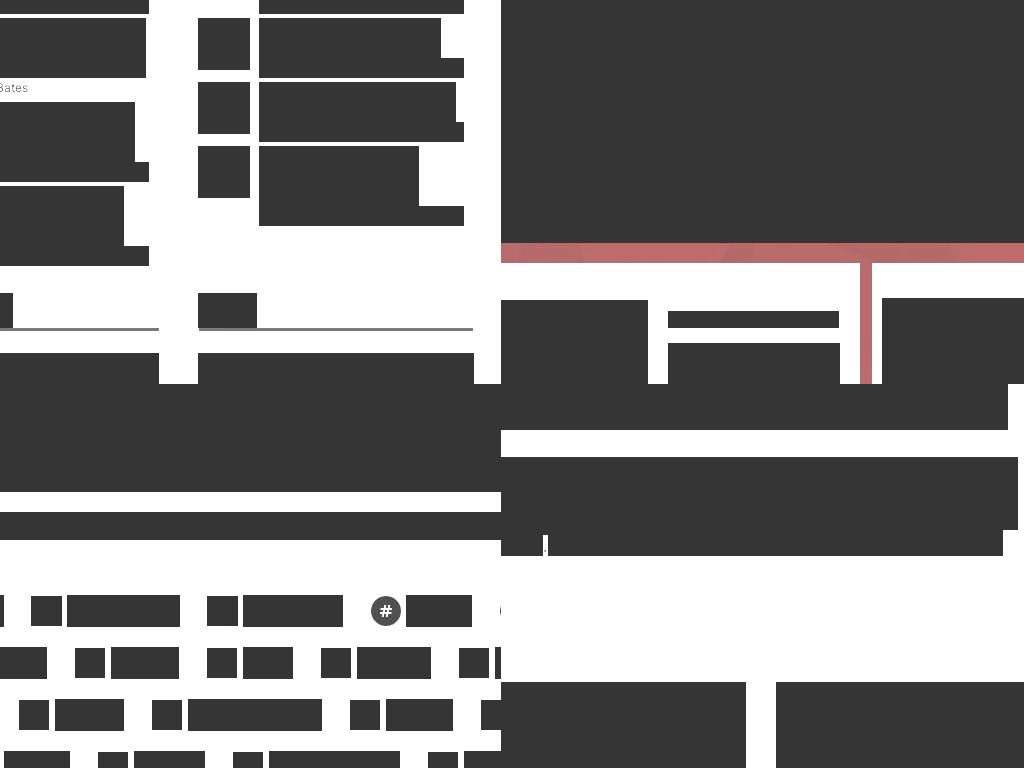button: (643, 0, 1024, 243), (501, 0, 643, 243), (776, 682, 1024, 768), (501, 682, 746, 768), (198, 353, 474, 384), (198, 18, 250, 70), (198, 82, 250, 134), (198, 146, 250, 198), (620, 0, 656, 32), (1018, 216, 1024, 228)
heading: (0, 384, 501, 492), (0, 512, 501, 540), (259, 146, 419, 207), (0, 18, 146, 79), (0, 102, 135, 163), (259, 82, 456, 123), (0, 186, 124, 247), (259, 18, 441, 59), (556, 682, 746, 715), (866, 682, 1024, 715), (668, 311, 839, 328), (198, 293, 257, 328)
image: (643, 0, 1024, 243), (501, 0, 643, 243), (501, 300, 648, 384), (882, 298, 1024, 384), (198, 353, 474, 384), (776, 682, 850, 756), (501, 682, 540, 756), (198, 18, 250, 70), (198, 82, 250, 134), (198, 146, 250, 198), (31, 596, 62, 626), (207, 596, 238, 626), (370, 596, 401, 626), (75, 648, 105, 678), (207, 648, 237, 678), (321, 648, 351, 678), (459, 648, 489, 678), (19, 700, 49, 730), (152, 700, 182, 730), (350, 700, 380, 730), (481, 700, 501, 730), (98, 752, 128, 768), (233, 752, 263, 768), (428, 752, 458, 768)
link: (501, 509, 1003, 556), (866, 715, 1024, 766), (676, 457, 1004, 478), (556, 715, 746, 749), (558, 509, 717, 530), (809, 509, 904, 530), (510, 457, 602, 478)
text: (501, 457, 1018, 530), (501, 384, 1008, 430), (668, 343, 840, 384), (188, 699, 322, 731), (259, 58, 464, 78), (259, 122, 464, 142), (259, 206, 464, 226), (67, 595, 180, 627), (243, 595, 343, 627), (0, 78, 149, 98), (0, 162, 149, 182), (0, 246, 149, 266), (259, 0, 464, 14), (357, 647, 431, 679), (269, 751, 400, 768), (55, 699, 124, 731), (111, 647, 179, 679), (386, 699, 453, 731), (406, 595, 472, 627), (0, 0, 149, 14), (716, 509, 809, 530), (600, 457, 677, 478), (243, 647, 293, 679), (0, 647, 47, 679), (134, 751, 205, 768), (4, 751, 70, 768), (902, 509, 942, 530), (501, 457, 510, 478), (543, 535, 548, 556)
